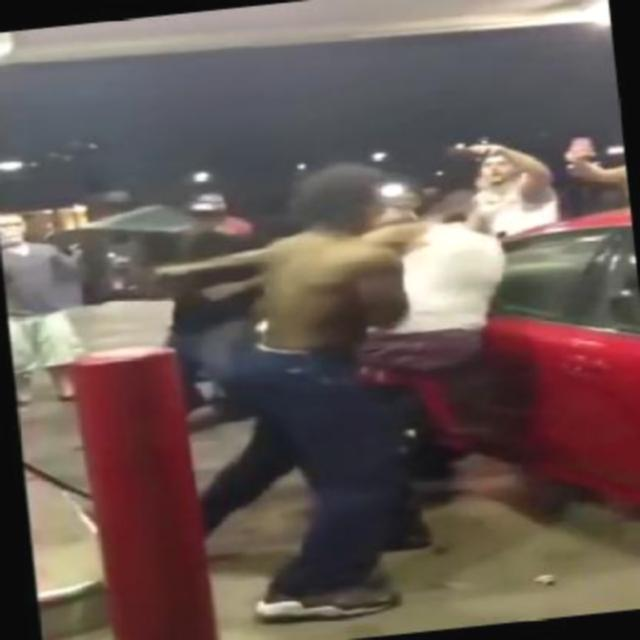fight: (160, 151, 532, 560)
non-fight: (0, 199, 111, 407)
